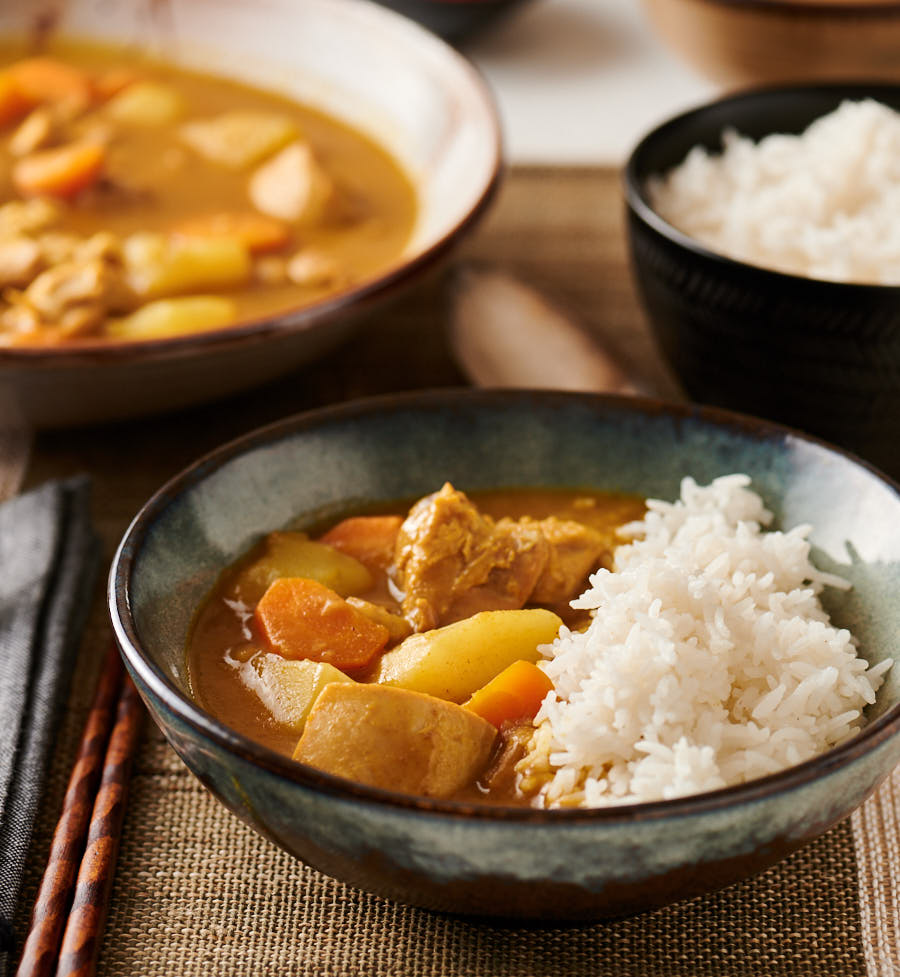curry: (1, 17, 435, 354), (205, 472, 574, 816)
rice: (567, 513, 846, 779), (726, 88, 897, 271)
